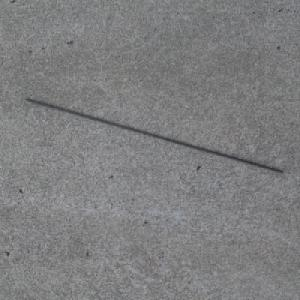LuggagePart: (23, 97, 284, 174)
